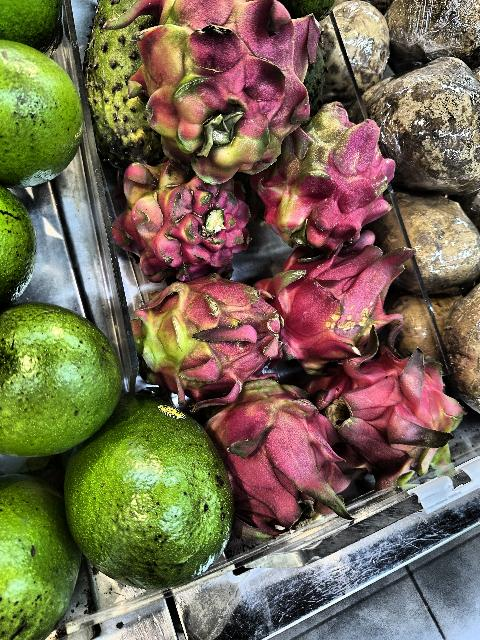buah-naga-belum-matang: (114, 0, 318, 178), (123, 278, 297, 398), (260, 102, 400, 248), (103, 163, 253, 273)
buah-naga-matang: (190, 394, 367, 532), (310, 371, 466, 485), (264, 256, 428, 362)
